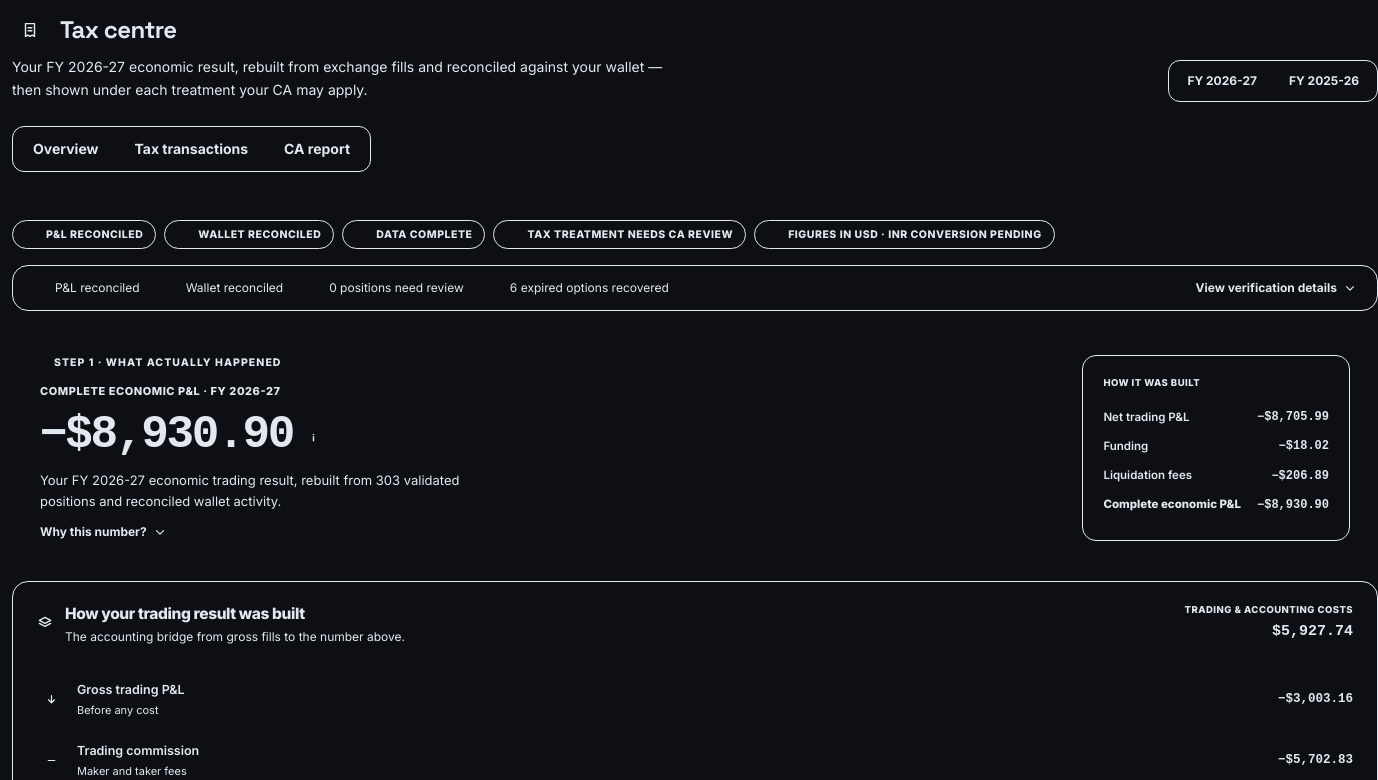
Test: three views, each answering a different question › CA report carries the export handoff, not the scenarios
Click the button "CA report".
click(317, 148)  # box [268,130,366,166]
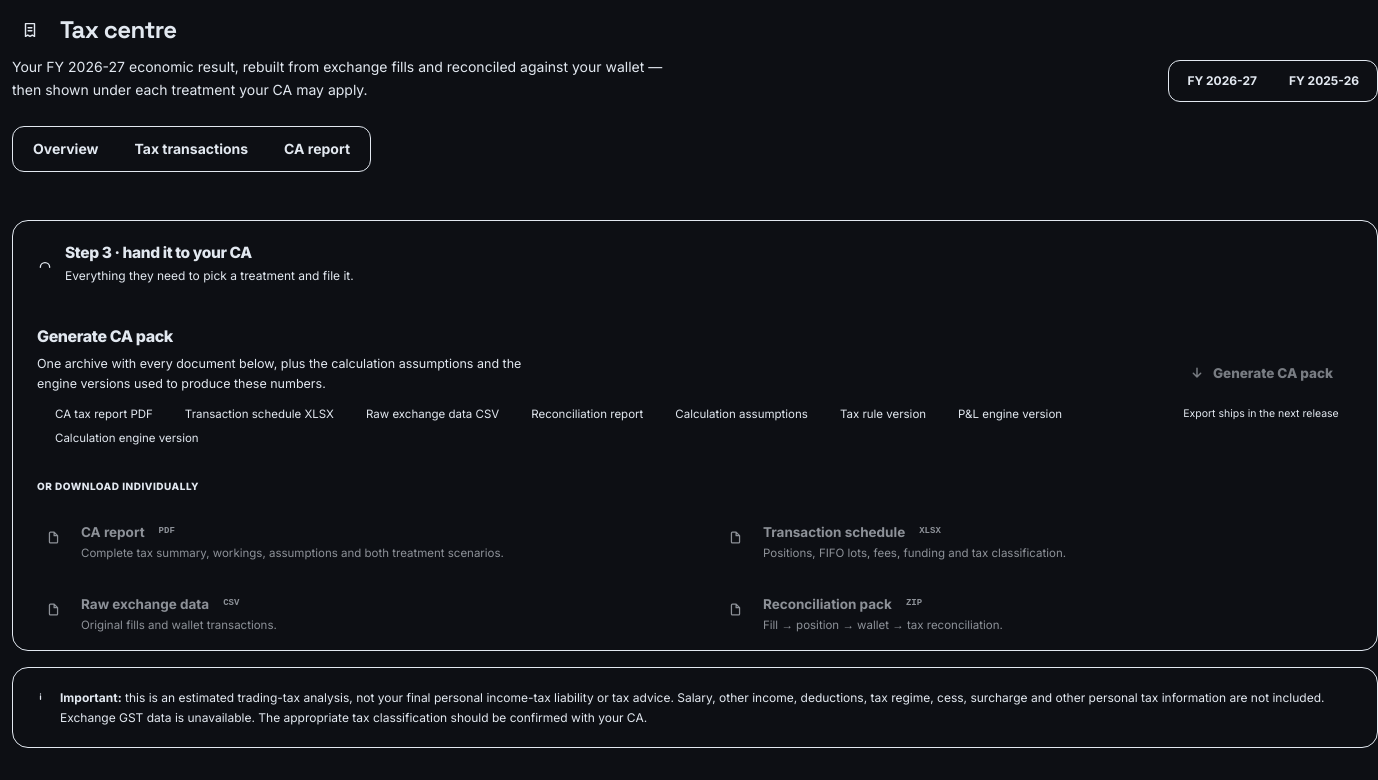
Expected: the text "Generate CA pack" is shown, [37,326,173,346]
Expected: the text "hand it to your CA" is shown, [65,242,252,262]
